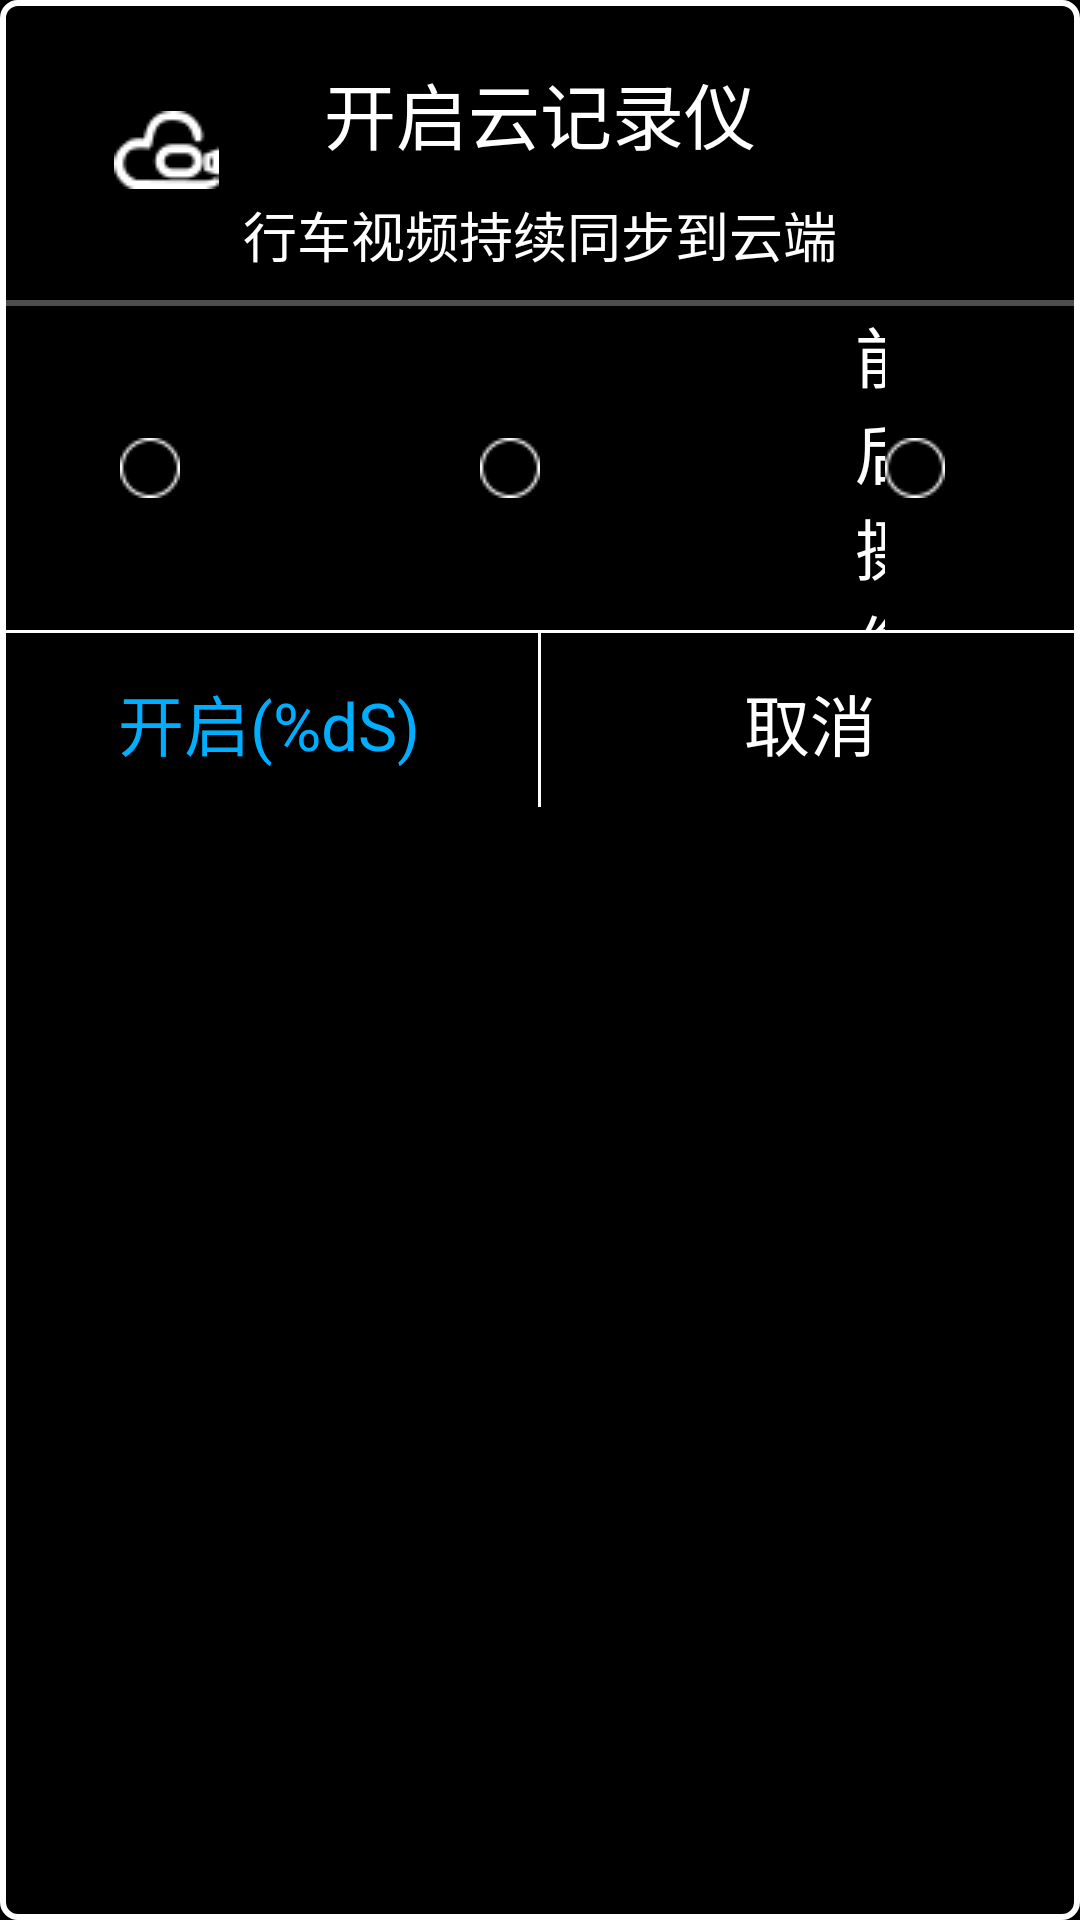

Named icons in this screenshot (1080 x 1920) and their bounding boxes, region(x1, y1, x2, y2):
cloud video: region(114, 111, 219, 189)
